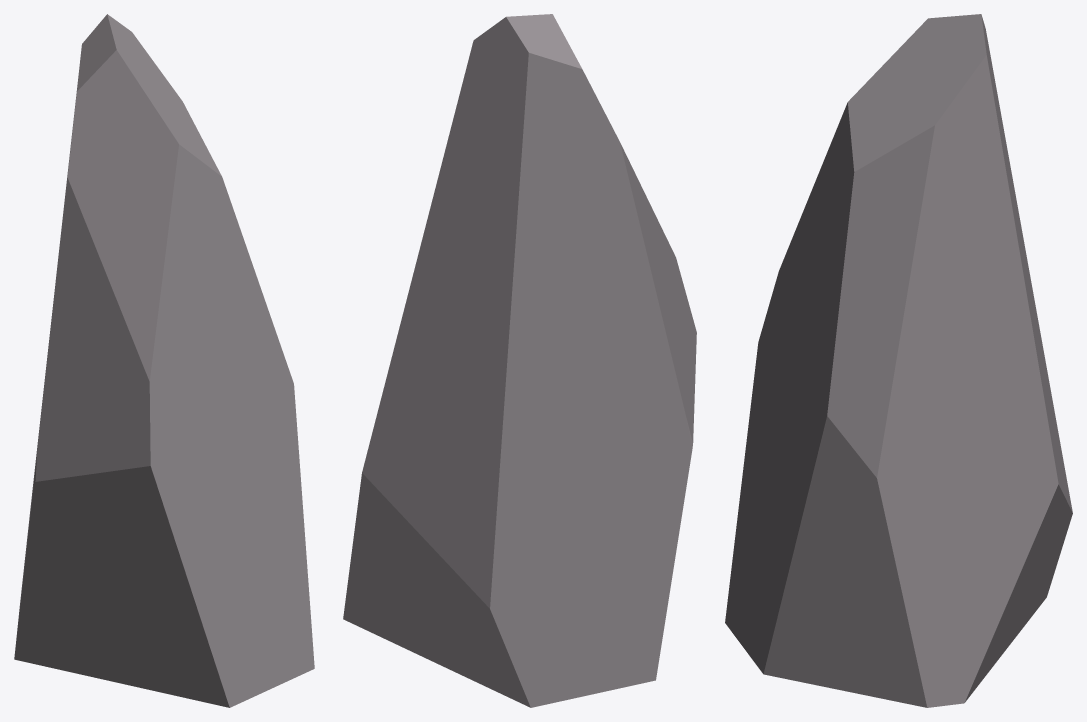
Rendered from Rock_Sharp_m_02.fbx.
3 views of the same model, side by side, from view 1: azimuth 30°, elevation 25°; view 2: azimuth 150°, elevation 25°; view 3: azimuth 270°, elevation 25° (orthographic). The views are drawn at different scales.
Visible parts, largest first — view 1: Rock_Sharp_m_02; view 2: Rock_Sharp_m_02; view 3: Rock_Sharp_m_02.
Part boxes in pixels (x1=…): Rock_Sharp_m_02: x1=14, y1=14, x2=314, y2=707; Rock_Sharp_m_02: x1=343, y1=14, x2=696, y2=707; Rock_Sharp_m_02: x1=725, y1=14, x2=1072, y2=707.
Bounding box in the file's own units: 78.37 × 155 × 79.92.
